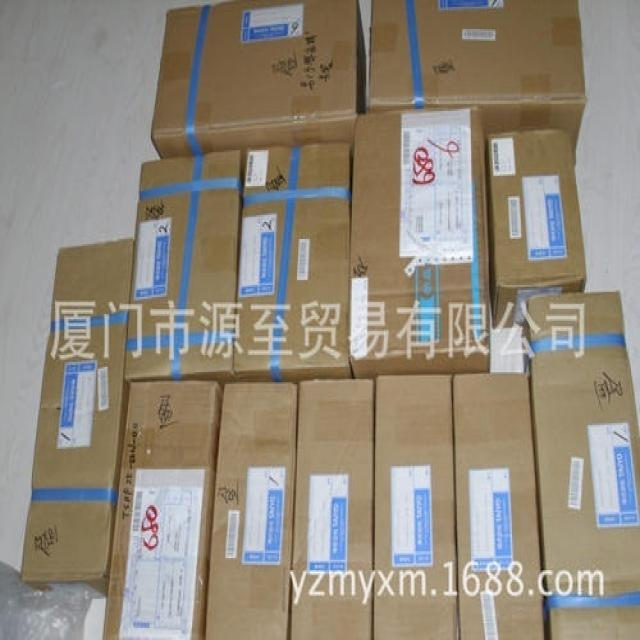Carton: (454, 290, 639, 638), (291, 374, 457, 638), (17, 241, 128, 580), (349, 104, 490, 365), (102, 384, 216, 638), (150, 2, 355, 135), (234, 143, 348, 369), (122, 150, 237, 372), (205, 381, 296, 638), (370, 2, 585, 101), (486, 126, 588, 275)
